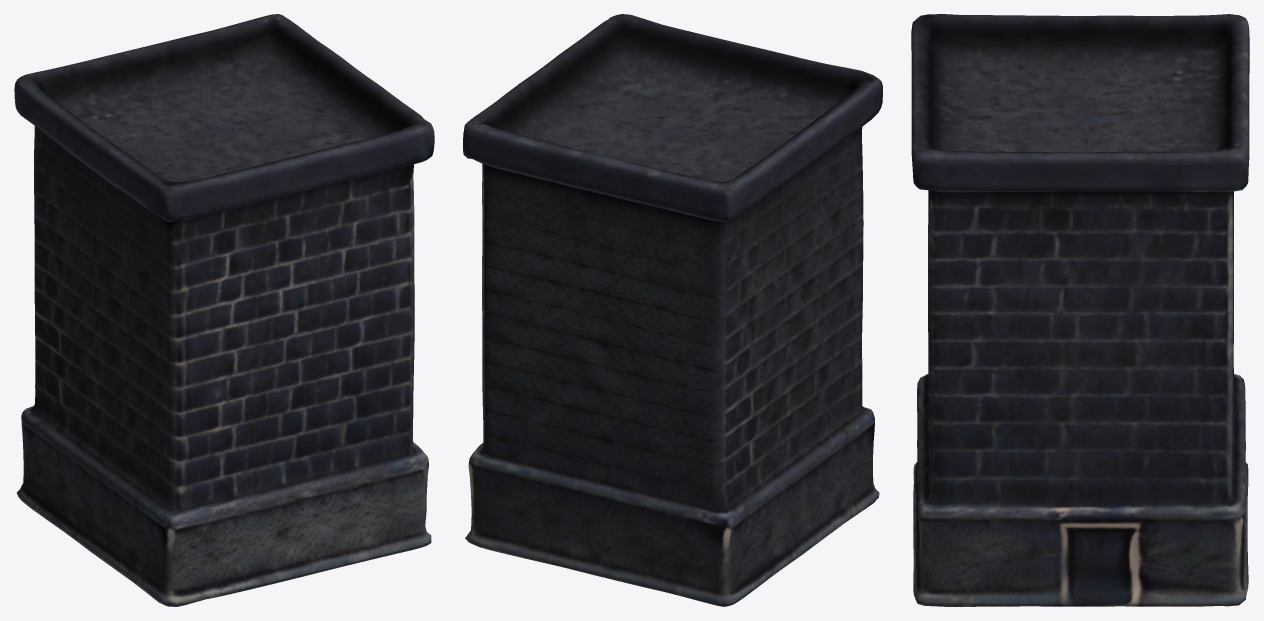
The model's file is 2de433113f21_Squared_chimney_exi.fbx.
3 views of the same model, side by side, from view 1: azimuth 30°, elevation 25°; view 2: azimuth 150°, elevation 25°; view 3: azimuth 270°, elevation 25° (orthographic). The views are drawn at different scales.
Parts seen in each view (by area): view 1: mesh; view 2: mesh; view 3: mesh.
Boxes of the visible parts, bbox=[...] form: mesh: bbox=[14, 14, 434, 606]; mesh: bbox=[463, 14, 882, 606]; mesh: bbox=[911, 14, 1249, 606].
Bounding box in the file's own units: 67.1 × 99.85 × 67.15.
